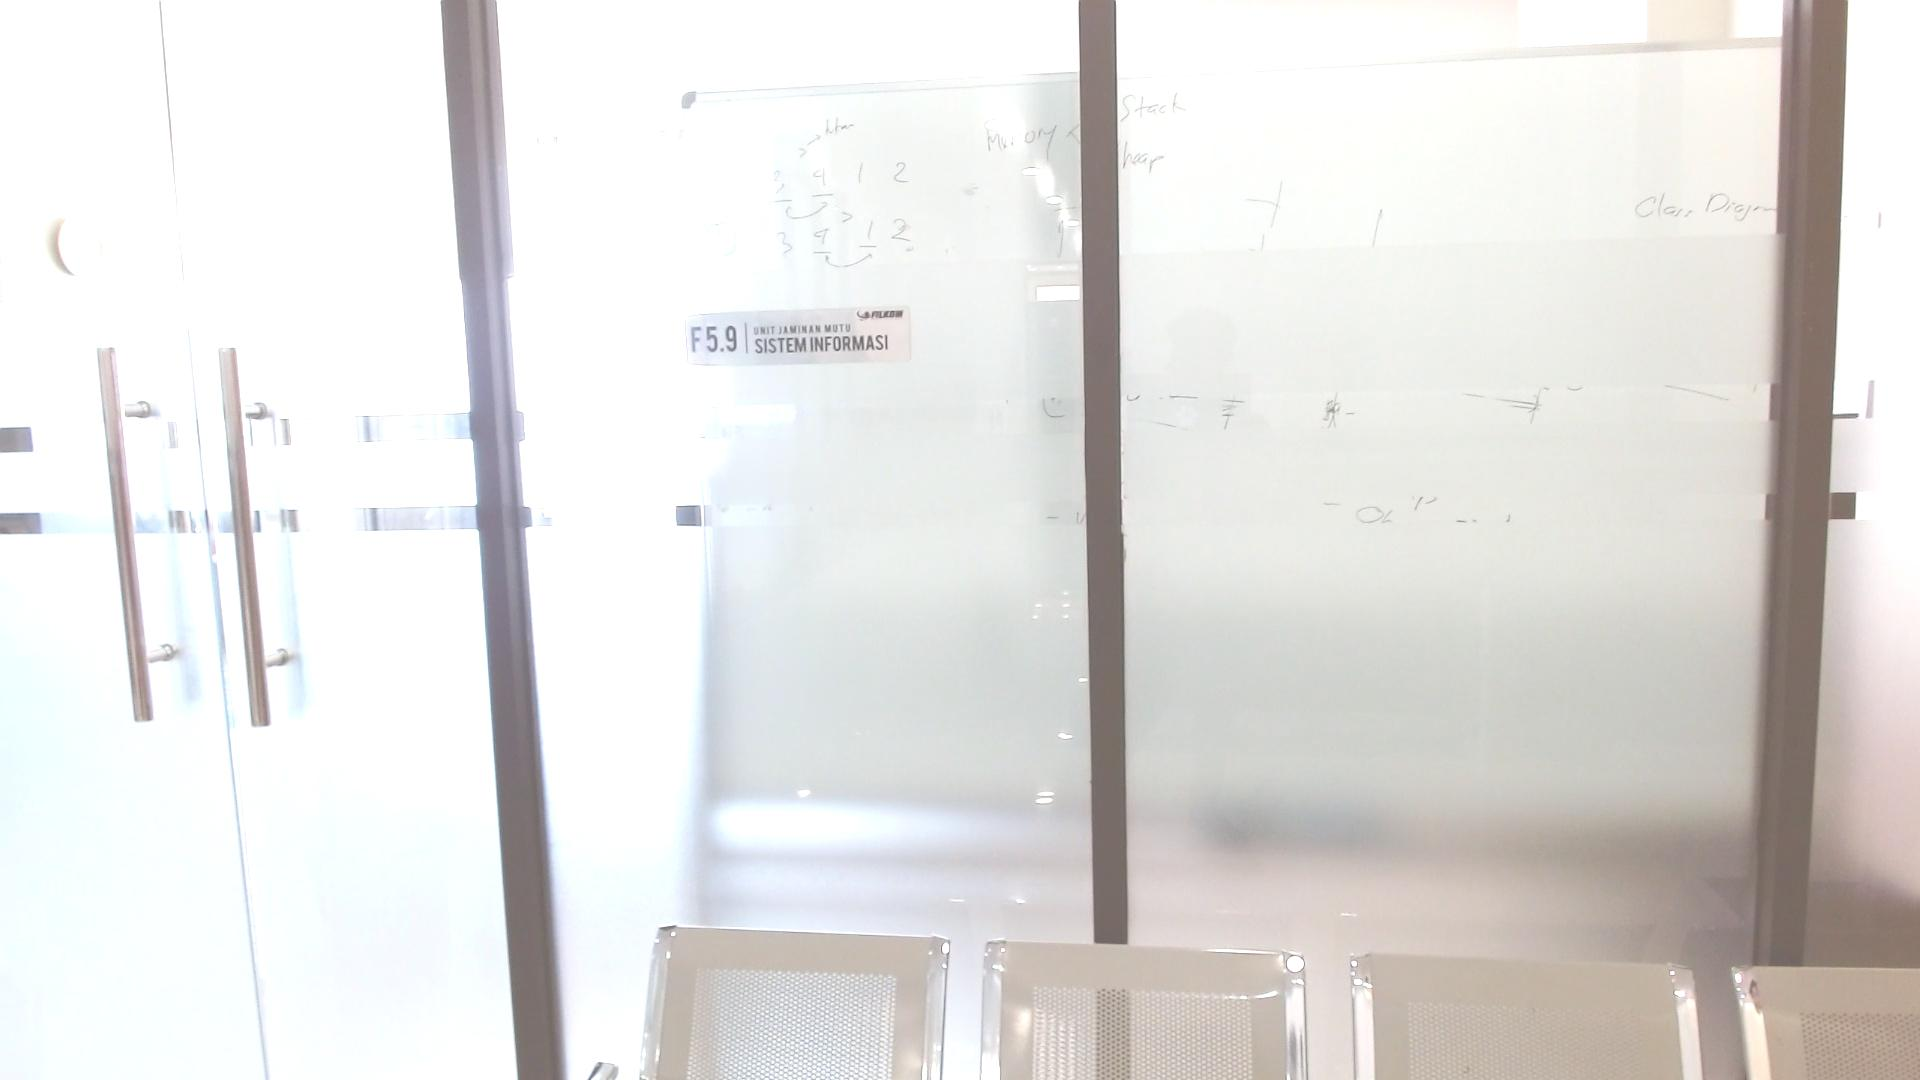plate: (686, 305, 911, 364)
